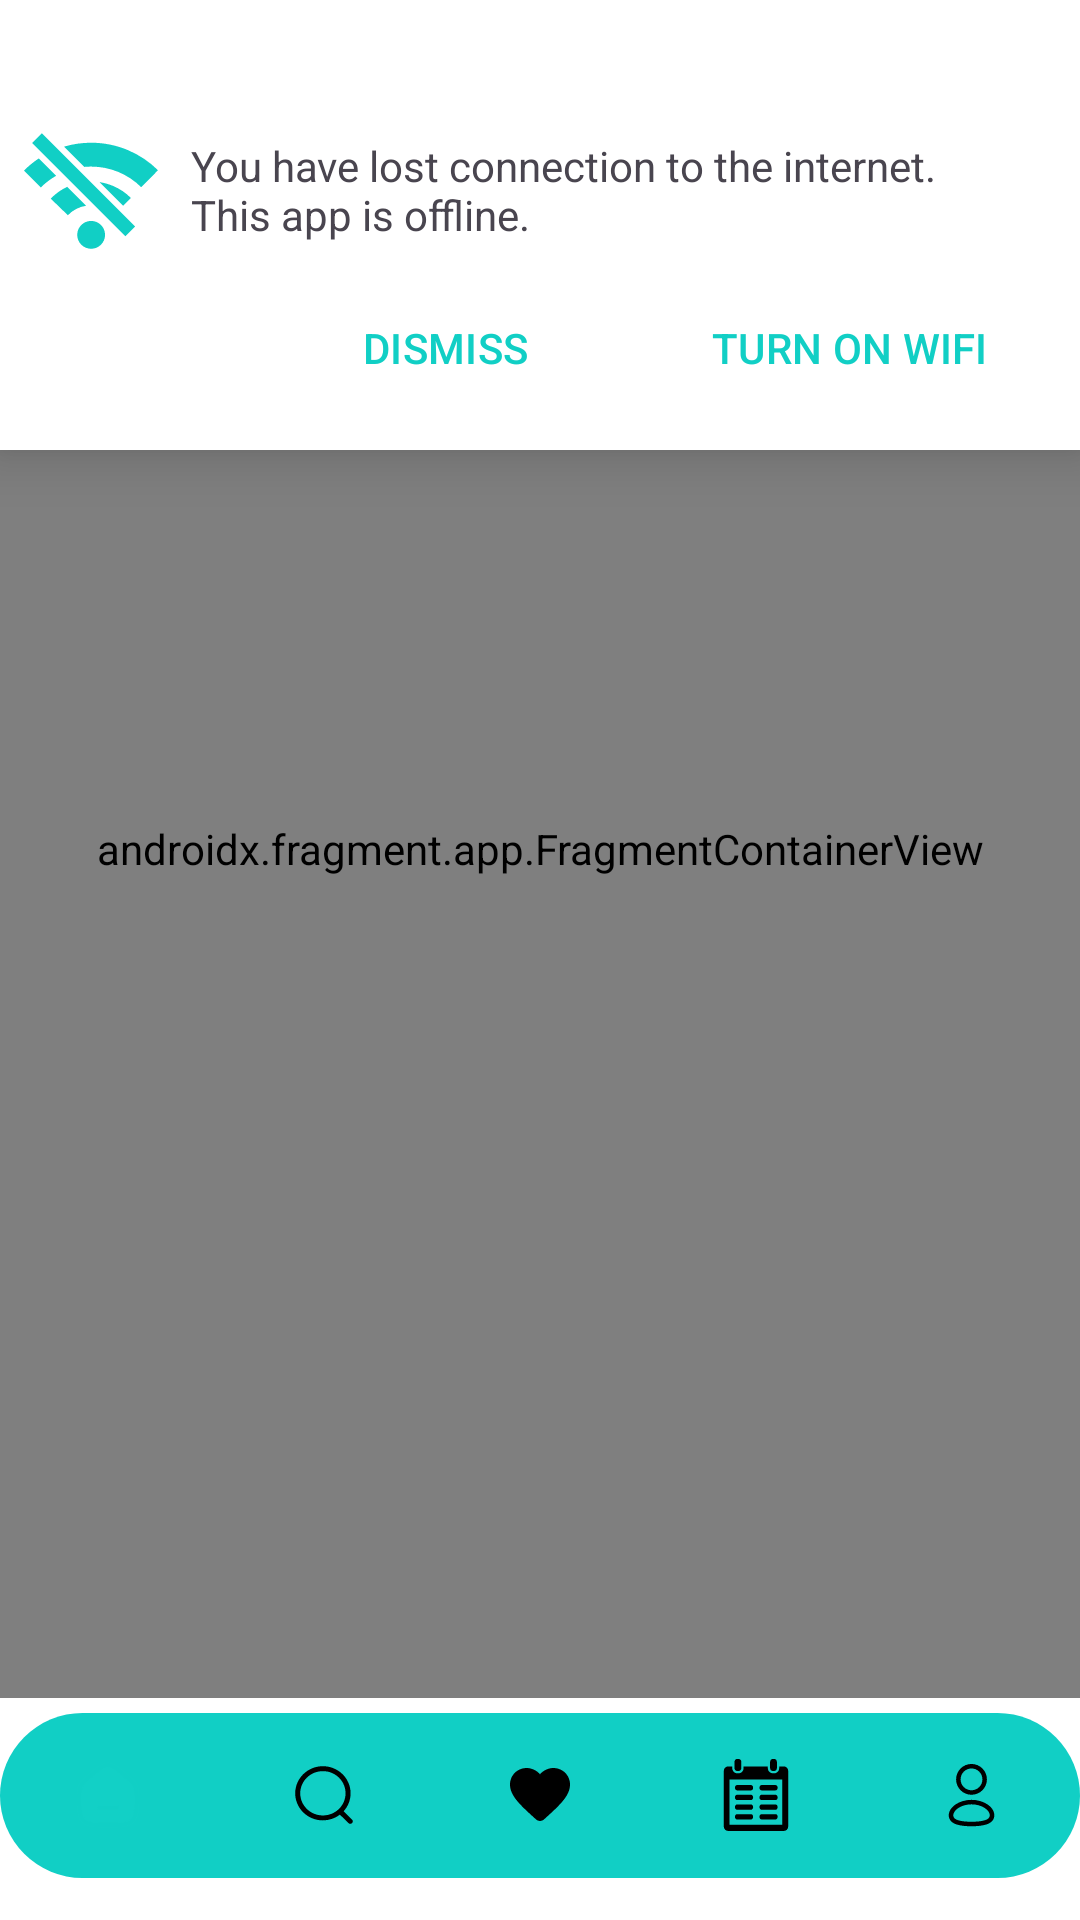

Point at icon controls on the screen. Image size 1080×1920, points as (x=x, y=y).
no wifi: (x=91, y=191)
